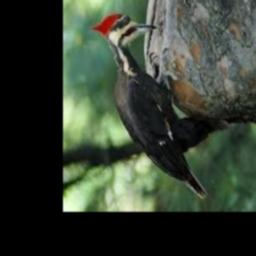Woodpecker: (91, 14, 208, 197)
